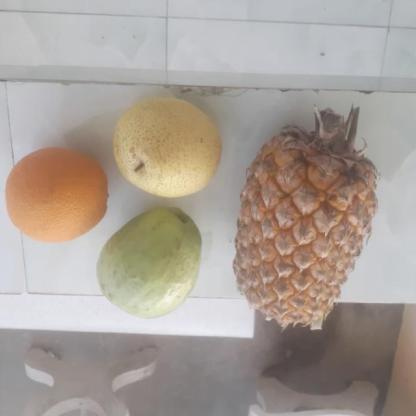guava: (98, 209, 205, 316)
orange: (3, 150, 112, 242)
pear: (111, 96, 228, 198)
pineapple: (242, 125, 376, 325)
